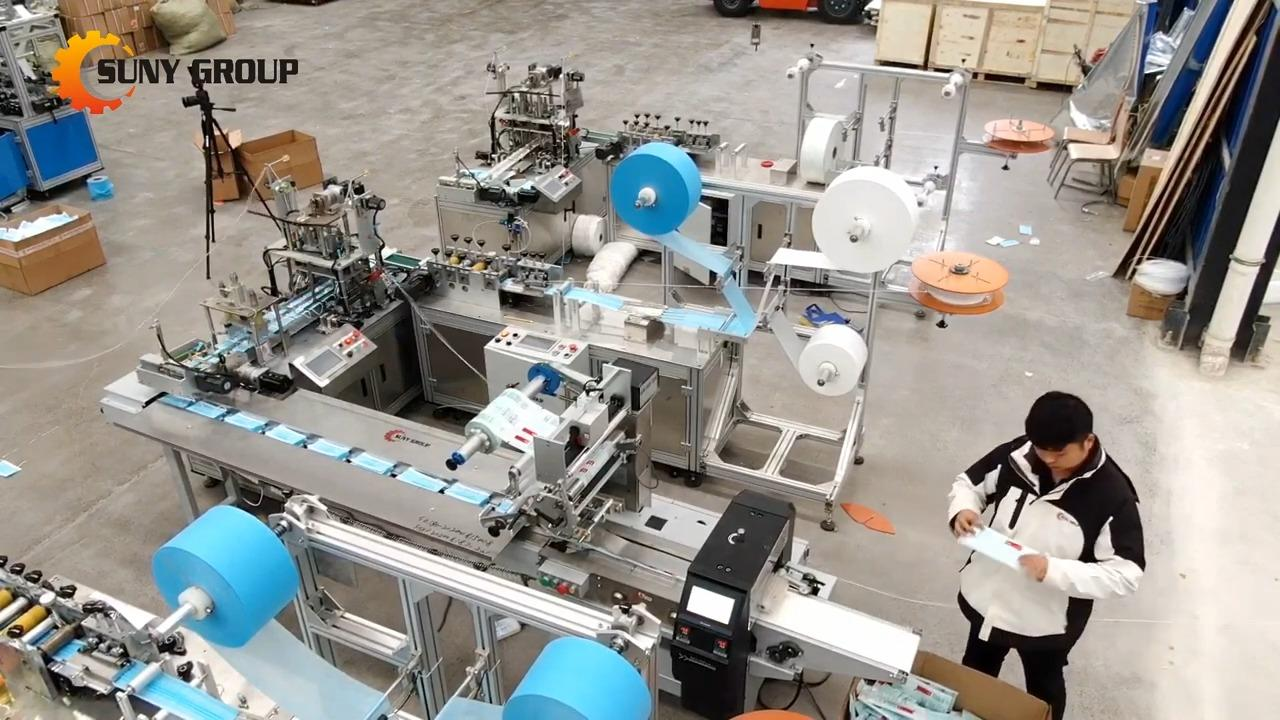mask: (396, 466, 448, 494), (350, 451, 396, 476), (444, 482, 491, 506), (264, 424, 307, 447), (307, 438, 350, 459), (185, 399, 227, 418), (224, 412, 266, 431)
